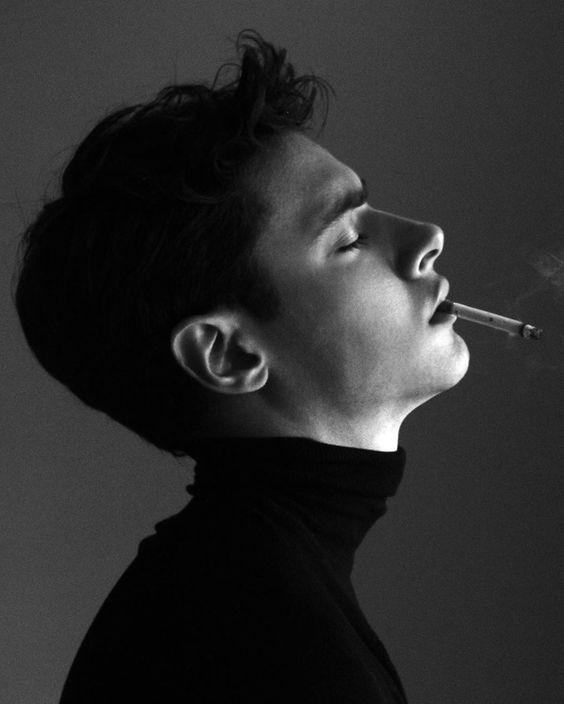cigarette: (435, 298, 545, 340)
